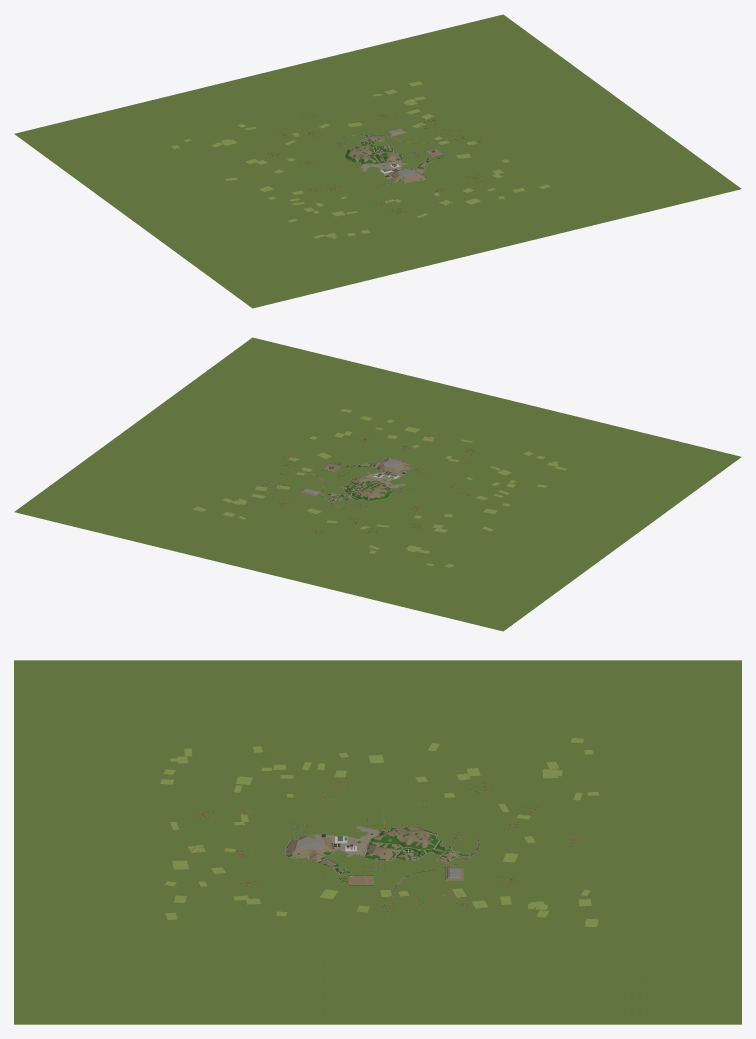
Rendered from konteks.glb.
3 views of the same model, one above another, from view 1: azimuth 30°, elevation 25°; view 2: azimuth 150°, elevation 25°; view 3: azimuth 270°, elevation 25° (orthographic). The views are drawn at different scales.
Visible parts, largest first — view 1: ENV_tanah_regional, ENV_kebun_sawah, ENV_zona_landfill_timbunan, ENV_lahan_TPST; view 2: ENV_tanah_regional, ENV_kebun_sawah, ENV_zona_landfill_timbunan, ENV_lahan_TPST; view 3: ENV_tanah_regional, ENV_kebun_sawah, ENV_zona_landfill_timbunan, ENV_lahan_TPST, ENV_kampung.
Part boxes in pixels (<box>): ENV_tanah_regional: <box>14,14,741,308</box>; ENV_kebun_sawah: <box>171,81,550,238</box>; ENV_zona_landfill_timbunan: <box>345,135,432,182</box>; ENV_lahan_TPST: <box>344,135,433,183</box>; ENV_tanah_regional: <box>14,337,741,631</box>; ENV_kebun_sawah: <box>192,408,567,567</box>; ENV_zona_landfill_timbunan: <box>327,458,410,502</box>; ENV_lahan_TPST: <box>327,458,411,502</box>; ENV_tanah_regional: <box>14,660,741,1024</box>; ENV_kebun_sawah: <box>160,738,598,927</box>; ENV_zona_landfill_timbunan: <box>285,826,470,874</box>; ENV_lahan_TPST: <box>285,826,470,874</box>; ENV_kampung: <box>186,780,583,918</box>.
Bounding box in the file's own units: 9000 × 62.09 × 7600.
Materials: 53 (37 with a texture image).
